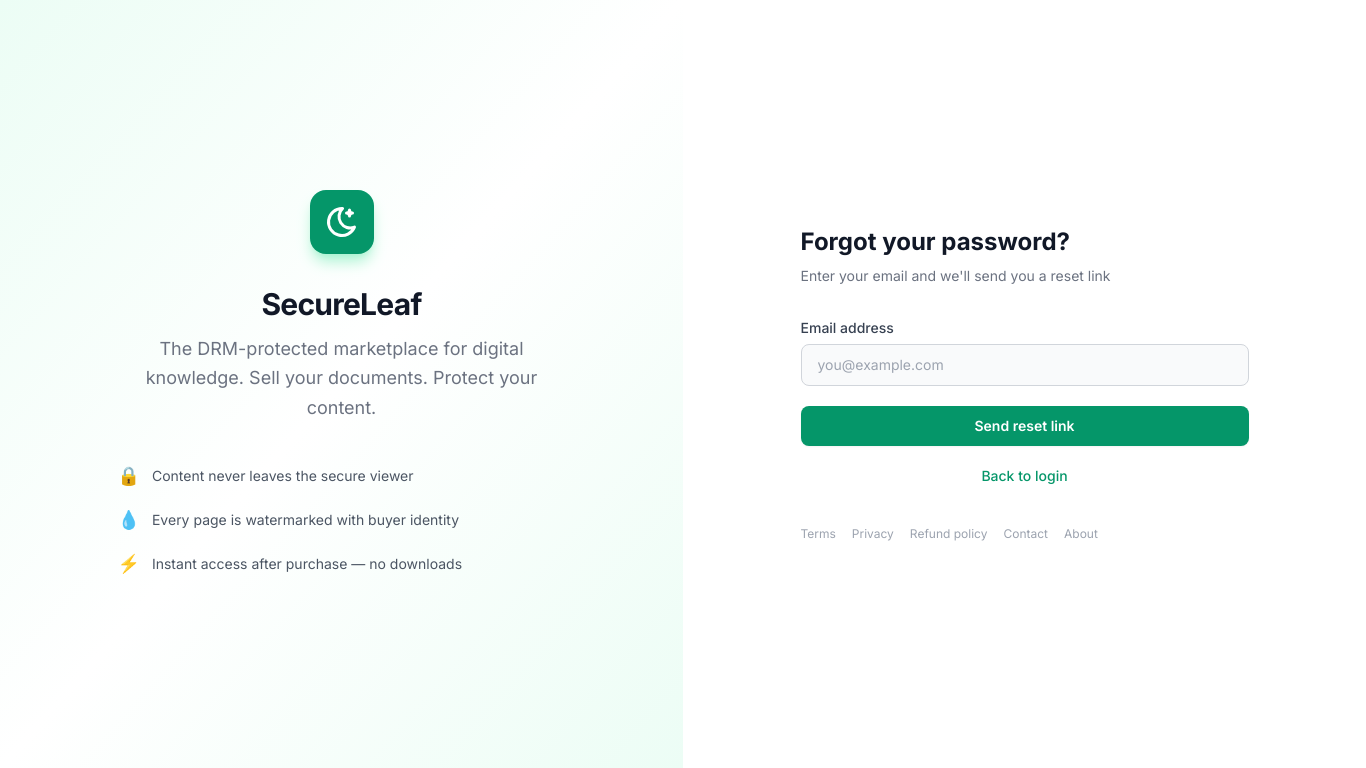
Test: ForgotPasswordPage › shows the same generic message for an email the mutation reports success for
Type "known@example.com" into the field labelled "Email address" at (1024, 365), box 800,344 -> 1248,386
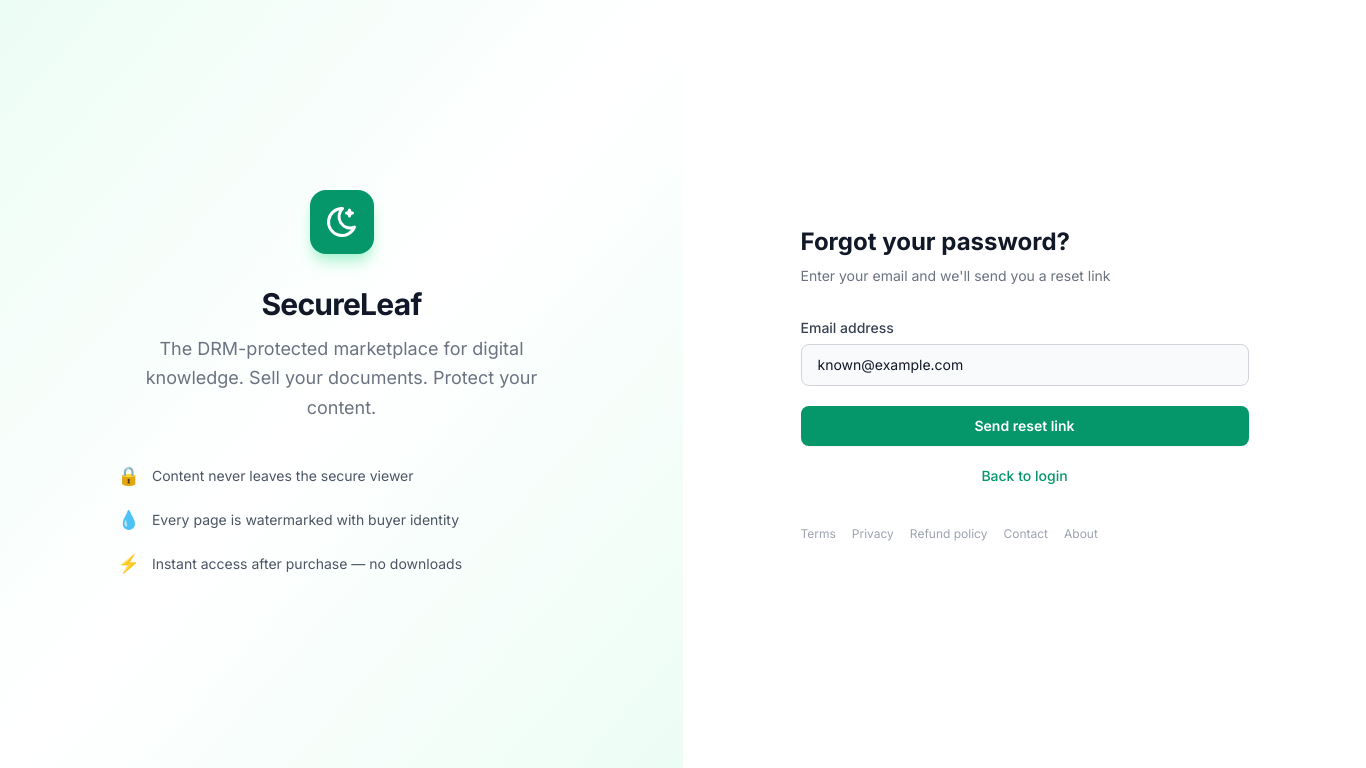
Click the button "Send reset link" at (1024, 426), box 800,406 -> 1248,446
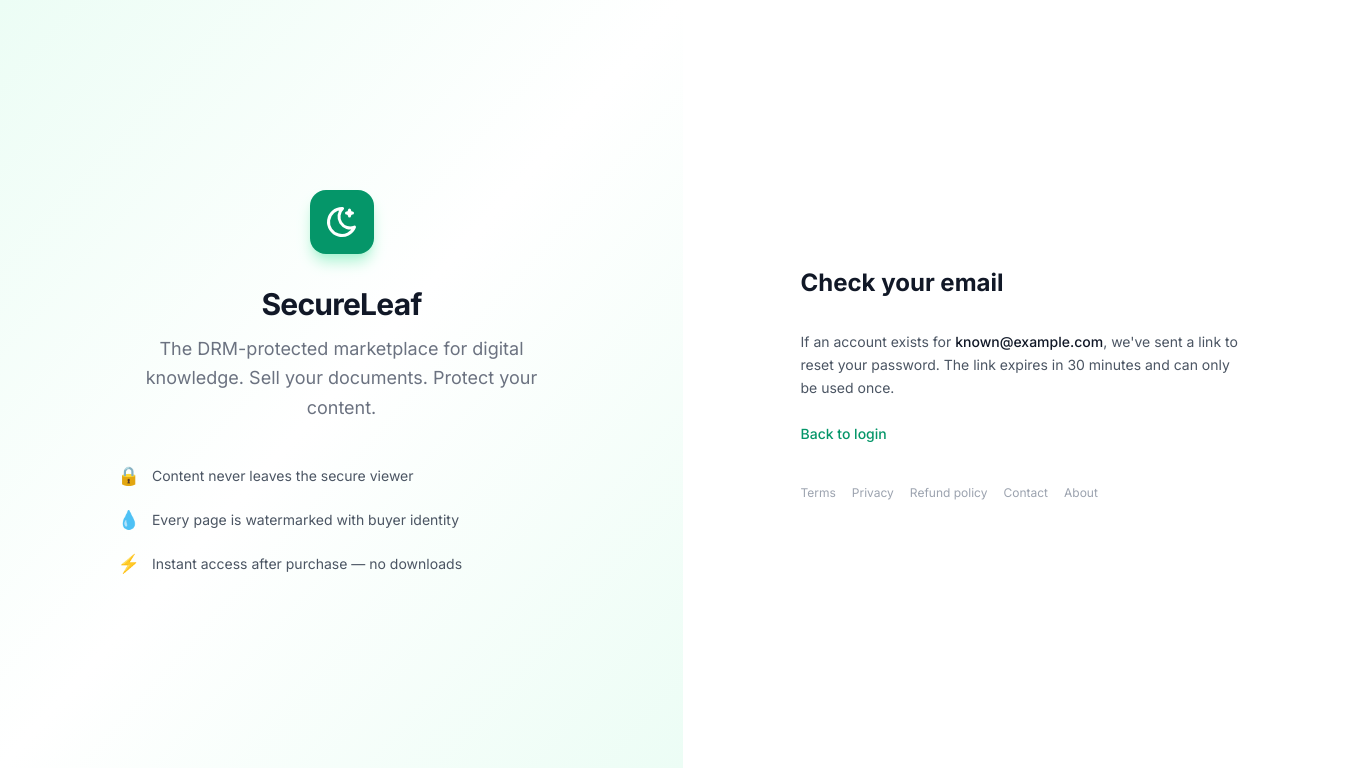
Check: the text "If an account exists for" is shown, box 800,333 -> 955,350
Check: the text "known@example.com" is shown, box 955,333 -> 1103,350
